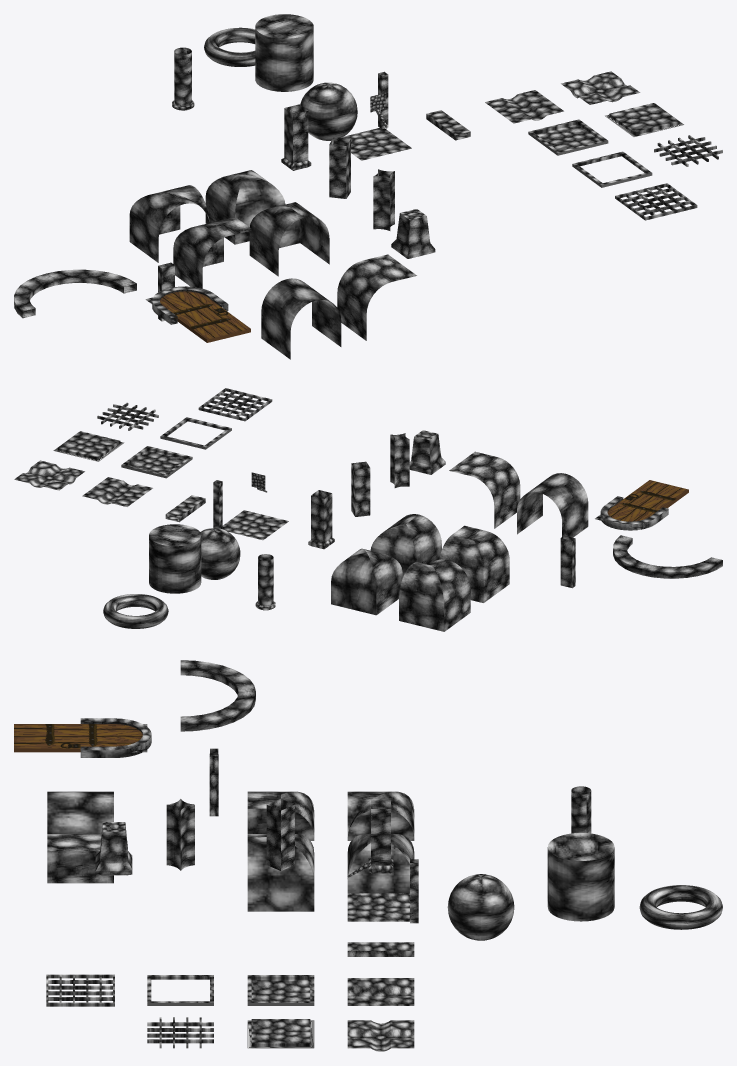
3 renders of one model, top to bottom at view 1: azimuth 30°, elevation 25°; view 2: azimuth 150°, elevation 25°; view 3: azimuth 270°, elevation 25°, orthographic. The views are drawn at different scales.
Visible parts, largest first — view 1: Cylinder, domequarter, ArchInside, dome, ArchInsideHalf, domehalf, domehalfflat, Door, Sphere, PlaneFrame, gridsquare, PlaneBump (+15 smaller); view 2: domehalf, dome, Cylinder, domehalfflat, ArchInside, domequarter, ArchInsideHalf, Door, Sphere, Torus, PlaneFrame, gridsquare (+17 smaller); view 3: Cylinder, domequarter, Sphere, Door, dome, ArchInside, ArchInsideHalf, Torus, domehalf, PlaneFrame, PlaneBump, gridsquare (+16 smaller).
Part boxes in pixels (left/top/right/bottom): Cylinder: left=255, top=14, right=313, bottom=91; domequarter: left=249, top=202, right=329, bottom=276; ArchInside: left=261, top=278, right=341, bottom=359; dome: left=205, top=170, right=285, bottom=244; ArchInsideHalf: left=337, top=254, right=416, bottom=340; domehalf: left=129, top=185, right=209, bottom=262; domehalfflat: left=173, top=217, right=252, bottom=288; Door: left=160, top=291, right=250, bottom=342; Sphere: left=300, top=82, right=357, bottom=140; PlaneFrame: left=528, top=119, right=608, bottom=155; gridsquare: left=615, top=183, right=697, bottom=220; PlaneBump: left=605, top=103, right=683, bottom=136; domehalf: left=399, top=559, right=470, bottom=631; dome: left=331, top=548, right=402, bottom=615; Cylinder: left=149, top=524, right=201, bottom=593; domehalfflat: left=439, top=525, right=509, bottom=602; ArchInside: left=517, top=473, right=588, bottom=537; domequarter: left=370, top=514, right=441, bottom=577; ArchInsideHalf: left=449, top=451, right=520, bottom=528; Door: left=607, top=480, right=688, bottom=521; Sphere: left=200, top=528, right=240, bottom=579; Torus: left=103, top=594, right=168, bottom=628; PlaneFrame: left=121, top=446, right=192, bottom=478; gridsquare: left=198, top=388, right=272, bottom=421; Cylinder: left=547, top=833, right=614, bottom=921; domequarter: left=247, top=834, right=314, bottom=911; Sphere: left=447, top=874, right=514, bottom=940; Door: left=14, top=724, right=142, bottom=752; dome: left=347, top=834, right=414, bottom=893; ArchInside: left=47, top=791, right=113, bottom=833; ArchInsideHalf: left=47, top=834, right=113, bottom=883; Torus: left=639, top=885, right=722, bottom=929; domehalf: left=347, top=791, right=414, bottom=840; PlaneFrame: left=247, top=975, right=314, bottom=1005; PlaneBump: left=247, top=1019, right=314, bottom=1048; gridsquare: left=46, top=974, right=114, bottom=1006.
Bounding box in the file's own units: 27.25 × 4.01 × 21.25.
Materials: 2 (2 with a texture image).
